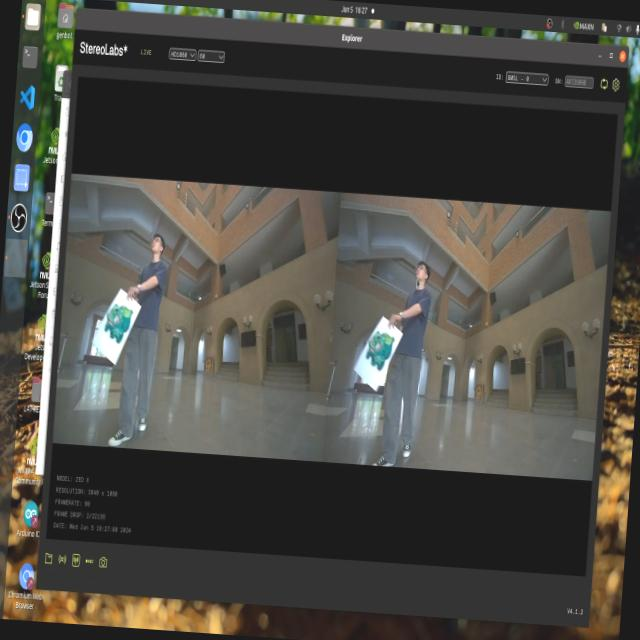green: (368, 324, 400, 370), (104, 298, 133, 340)
